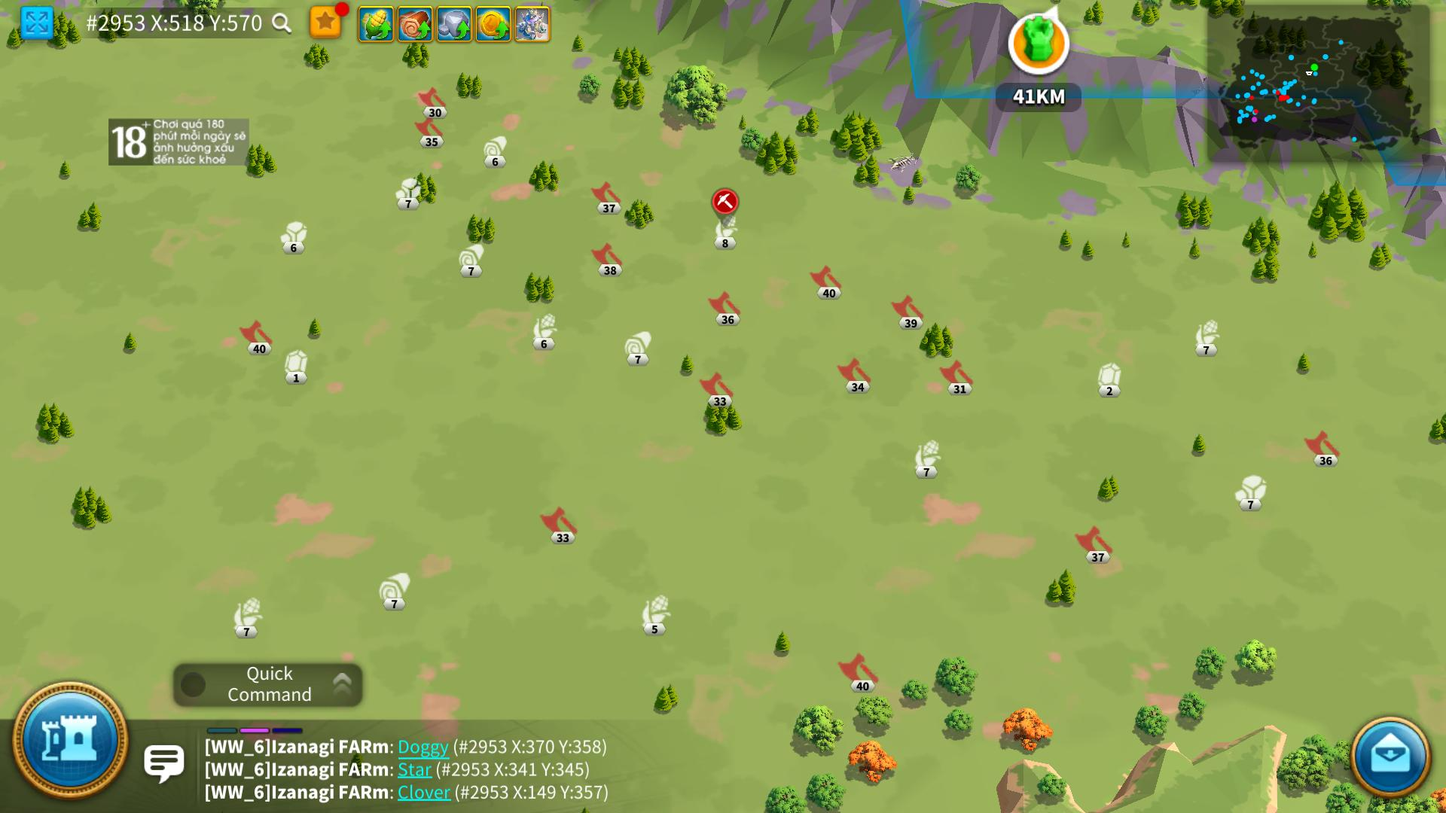gem-z-out: (284, 349, 309, 386), (1097, 362, 1122, 399)
